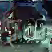Stop: (0, 0, 48, 48)
